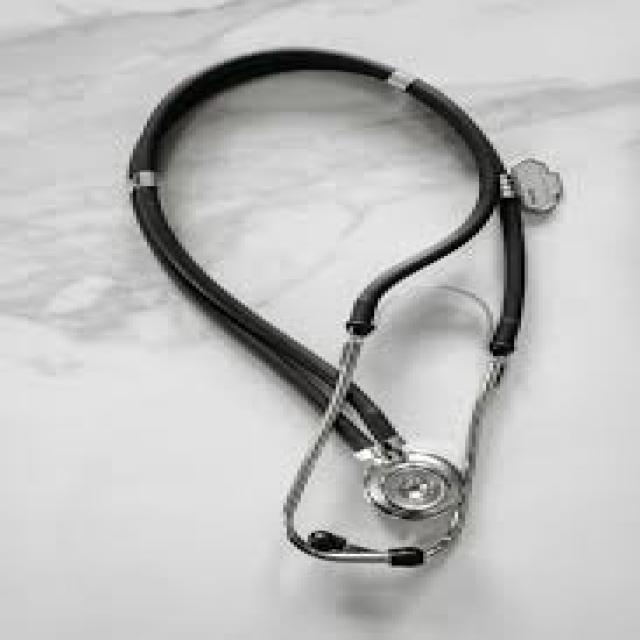stethoscope: (102, 17, 568, 608)
